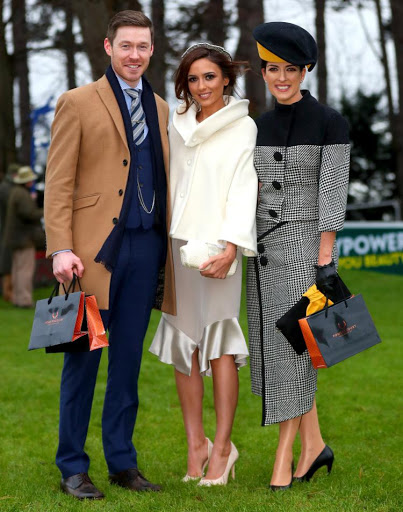Person: (44, 9, 170, 499), (252, 22, 348, 490), (169, 42, 257, 488)
